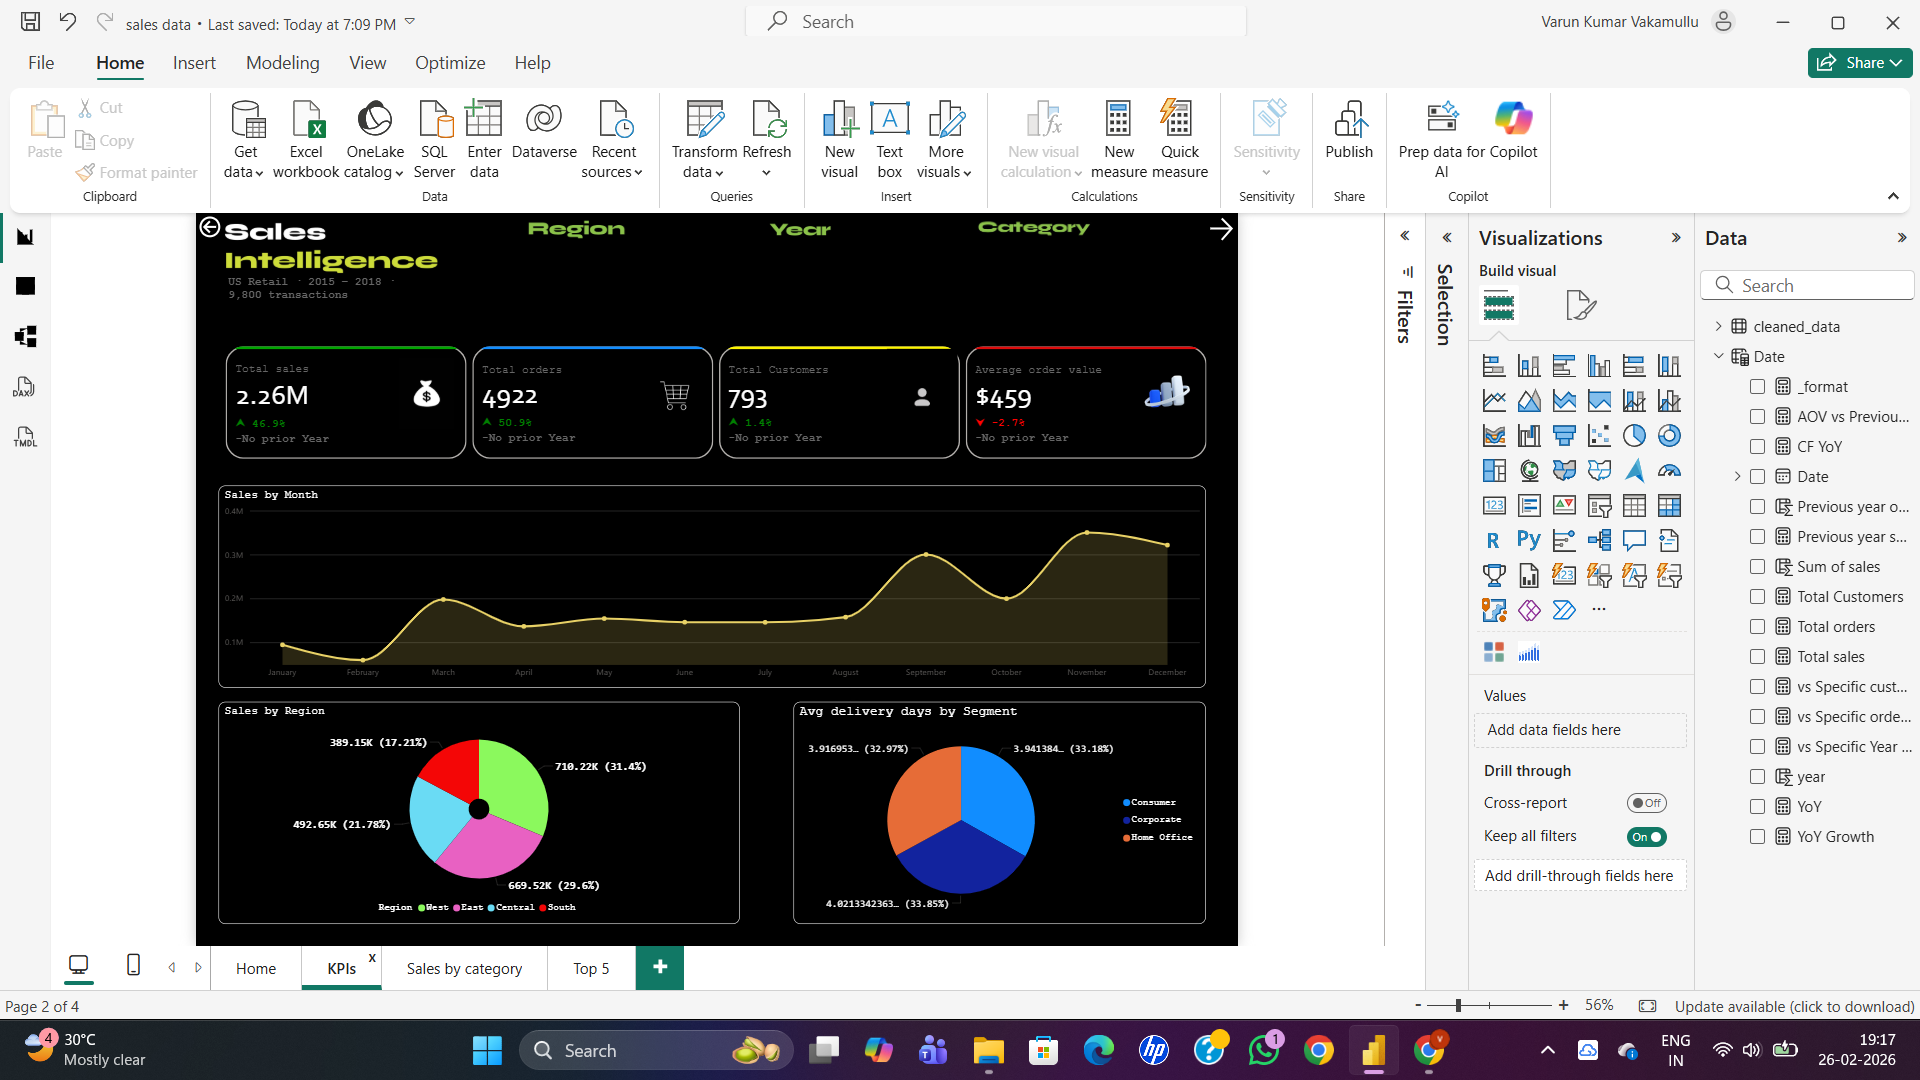

What the dashboard file says about the page in this screenshot:
{"tool":"powerbi","page":{"name":"KPIs","canvas":[1500,1056],"ordinal":1},"visuals":[{"type":"image","box":[31.9,0,320.2,96.9],"z":0},{"type":"textbox","box":[40.5,84.7,292,88.3],"z":1000},{"type":"cardVisual","fields":{"Data":["Date.Total sales","Date.Total orders","Date.Total Customers","cleaned_data.Average order value"]},"box":[37.8,187.2,1425.3,172.8],"z":2000},{"type":"lineChart","title":"Sales by Month","fields":{"Y":["Date.Total sales"],"Category":["Date.Date.Variation.Date Hierarchy.Month"]},"box":[32.4,392.3,1421.7,291.5],"z":3000},{"type":"donutChart","title":"Sales by Region","fields":{"Y":["Date.Total sales"],"Category":["cleaned_data.Region"]},"box":[32.4,703.6,750.4,320.3],"z":4000},{"type":"image","title":"Category","box":[1114,0,190.8,48.6],"z":6000},{"type":"image","title":"Year","box":[803.6,6.1,131.9,36.5],"z":10000},{"type":"image","title":"Region","box":[467.5,0,173.2,48.5],"z":12000},{"type":"pieChart","fields":{"Y":["cleaned_data.Avg delivery days"],"Category":["cleaned_data.Segment"]},"box":[860.2,703.6,593.9,320.3],"z":14000},{"type":"image","box":[282.5,203.4,99,113.4],"z":15000},{"type":"image","box":[638.9,203.4,104.4,118.8],"z":16000},{"type":"image","box":[977.2,190.8,136.8,140.4],"z":17000},{"type":"image","box":[1340.7,205.2,113.4,113.4],"z":18000},{"type":"actionButton","box":[0,0,100,40],"z":18001},{"type":"actionButton","box":[1454.1,1.8,46.8,43.2],"z":18002}]}

Visuals, with their boxes on the page's 1500x1056 design canvas (x1, y1, x2, y2). These are canvas units, not pixel positions in the 1920x1080 screenshot, which may show the page scaled, cropped or inside an application window:
image: <region>32, 0, 352, 97</region>
textbox: <region>40, 85, 332, 173</region>
cardVisual - Date.Total sales x Date.Total orders: <region>38, 187, 1463, 360</region>
"Sales by Month" lineChart: <region>32, 392, 1454, 684</region>
"Sales by Region" donutChart: <region>32, 704, 783, 1024</region>
"Category" image: <region>1114, 0, 1305, 49</region>
"Year" image: <region>804, 6, 936, 43</region>
"Region" image: <region>468, 0, 641, 48</region>
pieChart - cleaned_data.Avg delivery days x cleaned_data.Segment: <region>860, 704, 1454, 1024</region>
image: <region>282, 203, 382, 317</region>
image: <region>639, 203, 743, 322</region>
image: <region>977, 191, 1114, 331</region>
image: <region>1341, 205, 1454, 319</region>
actionButton: <region>0, 0, 100, 40</region>
actionButton: <region>1454, 2, 1501, 45</region>
